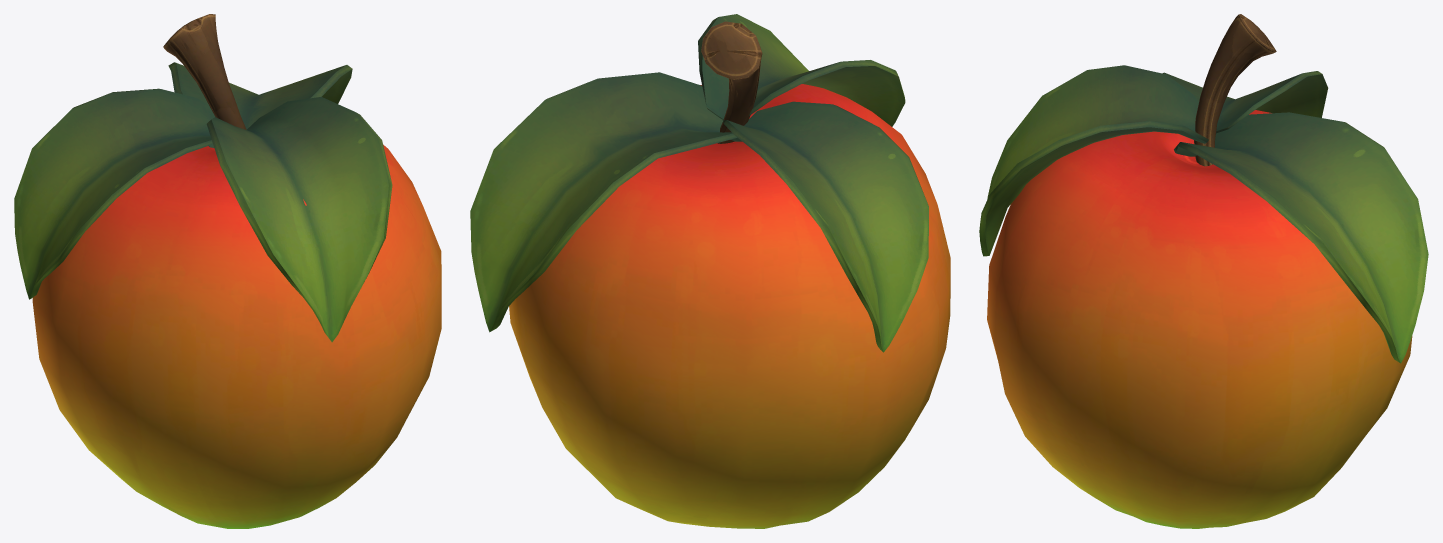
The model's file is Wumpa03.dae.
3 renders of one model, left to right at view 1: azimuth 30°, elevation 25°; view 2: azimuth 150°, elevation 25°; view 3: azimuth 270°, elevation 25°, orthographic. The views are drawn at different scales.
Parts seen in each view (by area): view 1: SM_GP_Wumpa_03.mo; view 2: SM_GP_Wumpa_03.mo; view 3: SM_GP_Wumpa_03.mo.
Part boxes in pixels (left/top/right/bottom): SM_GP_Wumpa_03.mo: left=14, top=14, right=441, bottom=528; SM_GP_Wumpa_03.mo: left=470, top=14, right=950, bottom=528; SM_GP_Wumpa_03.mo: left=979, top=14, right=1428, bottom=528.
Size of the model in its own units: 0.1713 by 0.1808 by 0.2169.
1 material, 1 textured.
